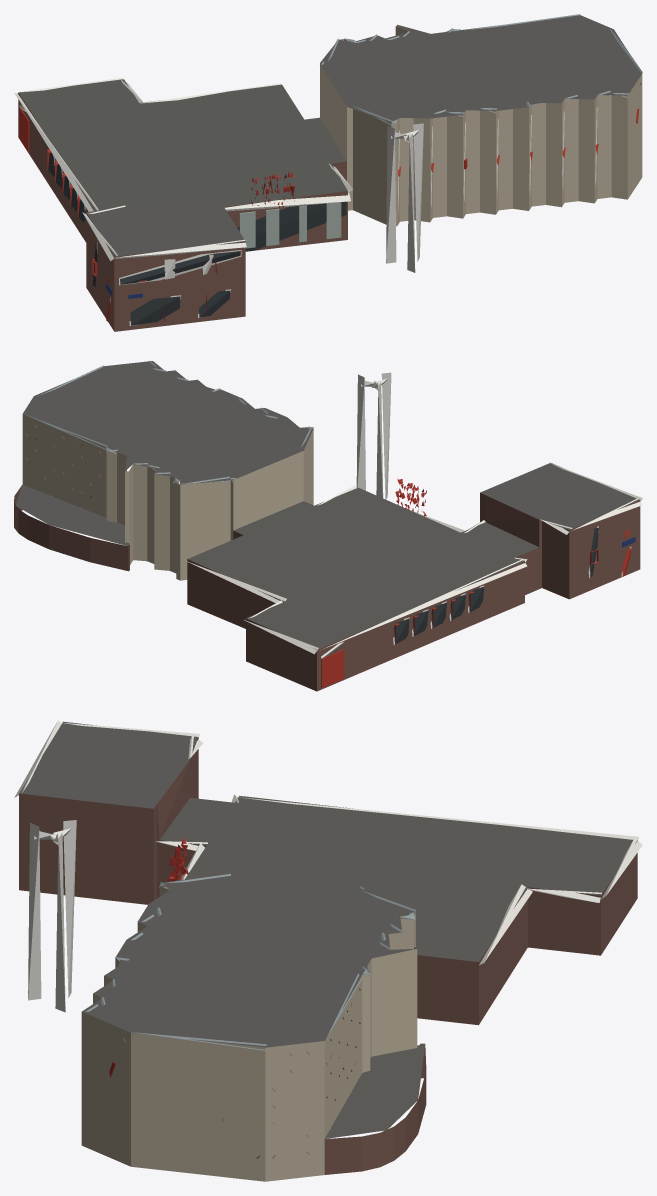
File: de-kandelaar-vening-meineszlaan.lod1.glb
The picture shows the model from 3 angles, top to bottom: view 1: azimuth 30°, elevation 25°; view 2: azimuth 150°, elevation 25°; view 3: azimuth 270°, elevation 25°; orthographic projection. The views are drawn at different scales.
Visible parts, largest first — view 1: de-kandelaar-vening-meineszlaan; view 2: de-kandelaar-vening-meineszlaan; view 3: de-kandelaar-vening-meineszlaan.
Boxes of the visible parts, left/top/right/bottom form: de-kandelaar-vening-meineszlaan: left=14, top=14, right=642, bottom=331; de-kandelaar-vening-meineszlaan: left=14, top=361, right=642, bottom=691; de-kandelaar-vening-meineszlaan: left=14, top=720, right=642, bottom=1181.
Bounding box in the file's own units: 49.25 × 11 × 35.79.
